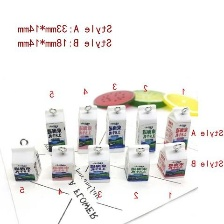carton: (76, 97, 103, 154), (160, 104, 193, 150), (132, 100, 160, 153), (154, 141, 190, 181), (41, 103, 68, 154), (9, 142, 41, 185), (46, 143, 78, 185), (103, 102, 127, 154), (85, 140, 113, 184), (122, 142, 150, 182)
